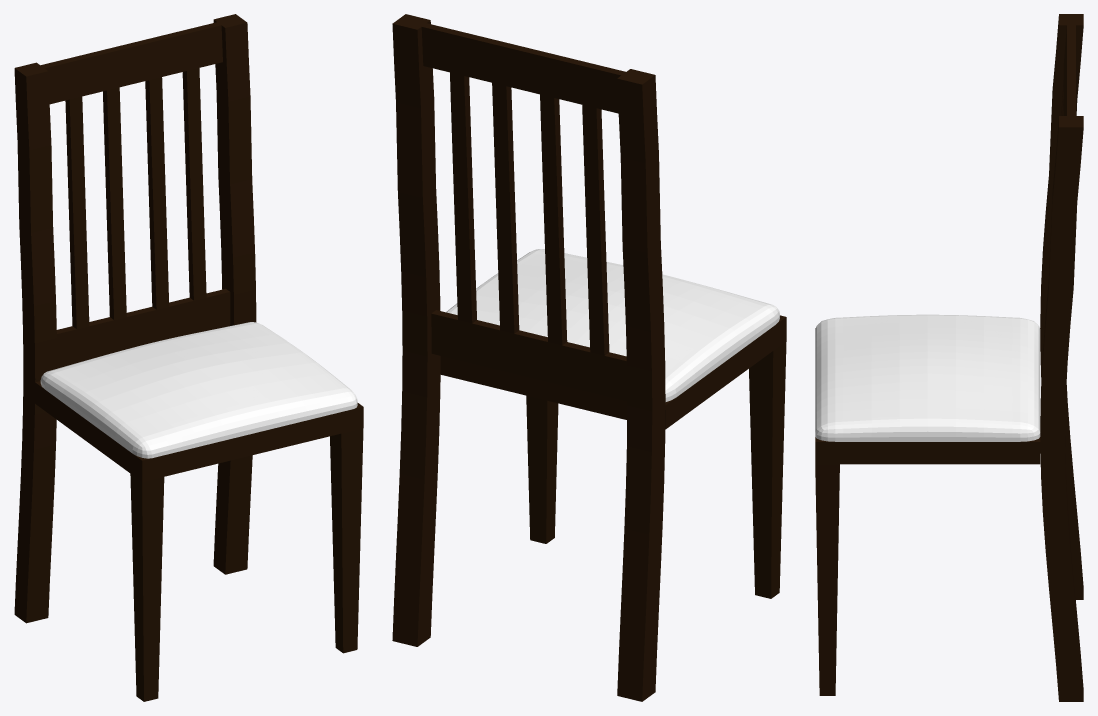
Rendered from fourVerticalBackrestChair.fbx.
3 renders of one model, left to right at view 1: azimuth 30°, elevation 25°; view 2: azimuth 150°, elevation 25°; view 3: azimuth 270°, elevation 25°, orthographic. The views are drawn at different scales.
Visible parts, largest first — view 1: chair.003; view 2: chair.003; view 3: chair.003.
Boxes of the visible parts, bbox=[...] form: chair.003: bbox=[14, 14, 363, 701]; chair.003: bbox=[392, 14, 786, 701]; chair.003: bbox=[815, 14, 1083, 701].
Bounding box in the file's own units: 50 × 118 × 50.
